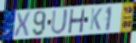1: (105, 6, 113, 32)
9: (32, 10, 47, 37)
H: (67, 8, 86, 34)
K: (89, 7, 104, 31)
U: (50, 8, 69, 36)
X: (13, 11, 32, 39)
